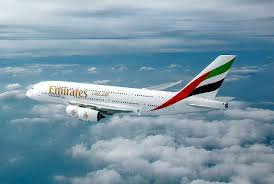maybay_dansu: (28, 60, 234, 125)
